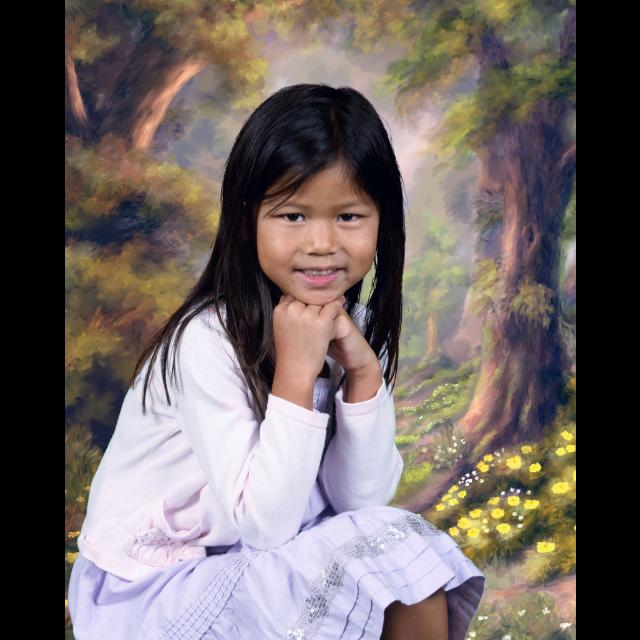Flower: (445, 484, 543, 538), (400, 378, 464, 414), (412, 431, 468, 469), (437, 482, 468, 510), (459, 472, 487, 486), (535, 539, 555, 555), (548, 480, 570, 494), (506, 452, 522, 470), (475, 460, 491, 476), (492, 446, 506, 464), (538, 603, 554, 617), (558, 620, 574, 632), (530, 459, 542, 473), (516, 606, 528, 618), (560, 430, 574, 440), (475, 613, 489, 621), (518, 446, 532, 454), (502, 630, 512, 640), (555, 445, 565, 455), (469, 629, 478, 637), (567, 443, 575, 452), (482, 454, 493, 460), (465, 635, 473, 639)
